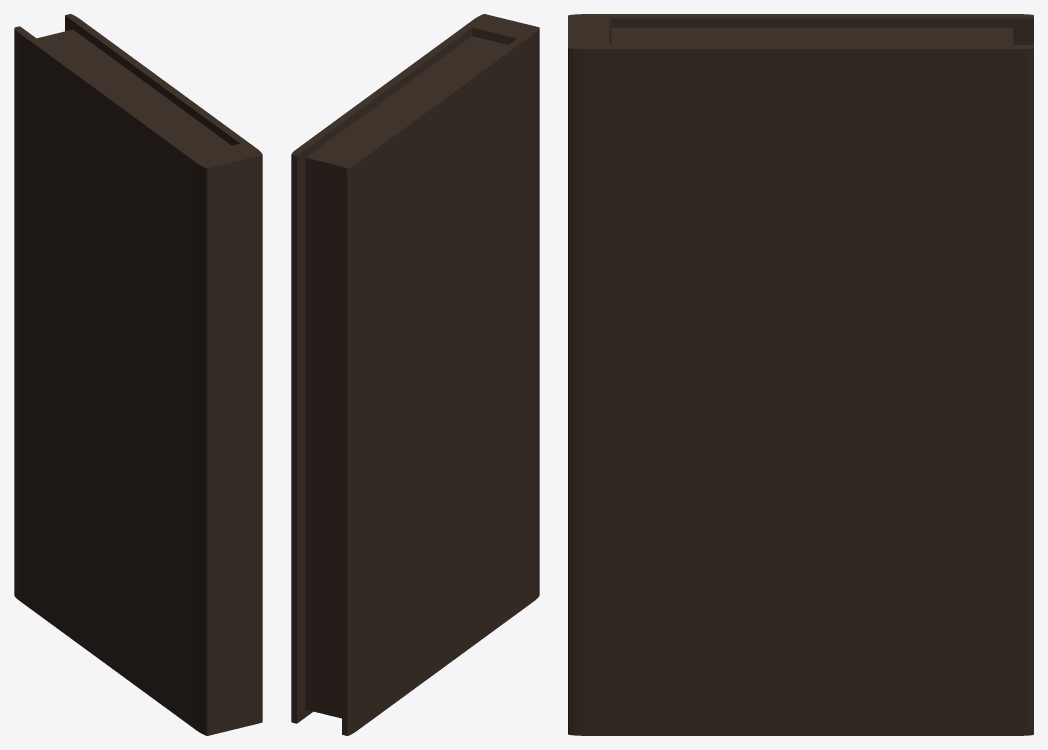
File: book1-1-1.fbx
3 views of the same model, side by side, from view 1: azimuth 30°, elevation 25°; view 2: azimuth 150°, elevation 25°; view 3: azimuth 270°, elevation 25° (orthographic). The views are drawn at different scales.
Visible parts, largest first — view 1: B_book1; view 2: B_book1; view 3: B_book1.
Part boxes in pixels (left/top/right/bottom): B_book1: left=14, top=14, right=262, bottom=735; B_book1: left=291, top=14, right=539, bottom=735; B_book1: left=568, top=14, right=1033, bottom=735.
Size of the model in its own units: 4.41 by 40 by 24.6.
